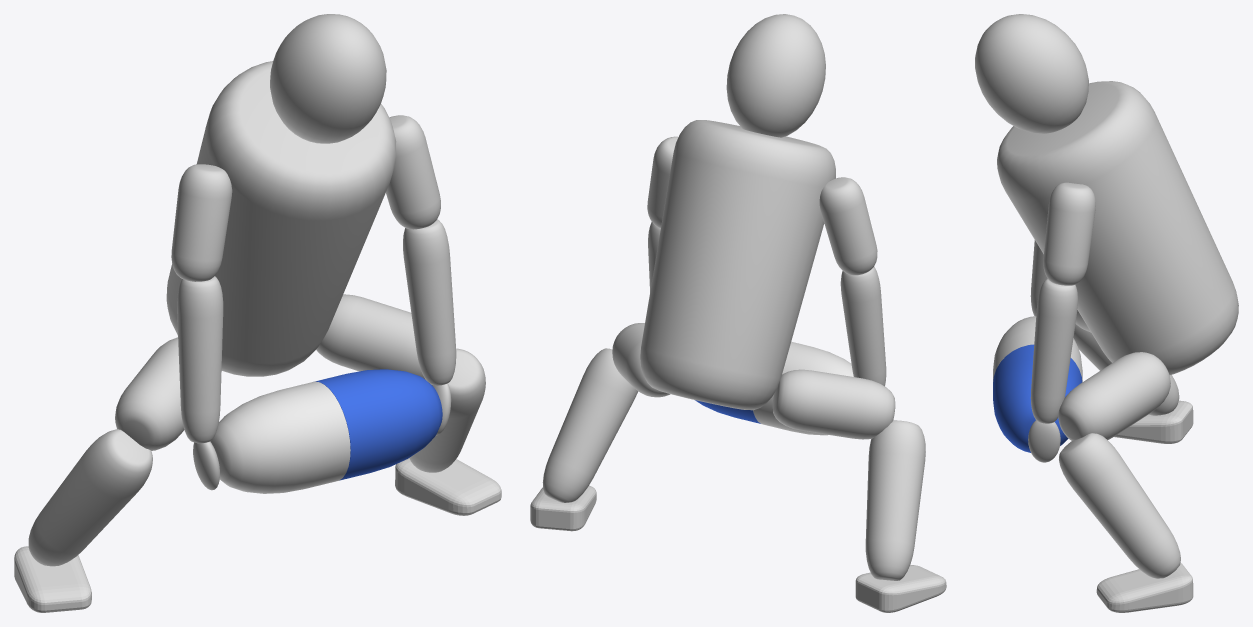
Rendered from Doll3.fbx.
The picture shows the model from 3 angles, left to right: view 1: azimuth 30°, elevation 25°; view 2: azimuth 150°, elevation 25°; view 3: azimuth 270°, elevation 25°; orthographic projection. The views are drawn at different scales.
Parts seen in each view (by area): view 1: 円柱.036, 薬.001, 球.012, 円柱.001, 円柱.038, 円柱.032, 円柱.034, 円柱.037, 円柱.035, 円柱.031, 立方体.006, 円柱.033 (+2 smaller); view 2: 円柱.036, 球.012, 円柱.001, 円柱.033, 円柱.035, 円柱.037, 円柱.038, 立方体.007, 薬.001, 立方体.006, 円柱.034, 円柱.031; view 3: 円柱.036, 球.012, 円柱.033, 円柱.034, 薬.001, 円柱.032, 円柱.031, 立方体.006, 立方体.007, 円柱.001, 球.010, 円柱.038.
Boxes of the visible parts, x1,y1,x2,y2 form: 円柱.036: (166,61,396,376); 薬.001: (210,369,442,493); 球.012: (270,14,386,143); 円柱.001: (28,429,152,566); 円柱.038: (177,276,223,443); 円柱.032: (403,219,456,385); 円柱.034: (316,294,425,379); 円柱.037: (171,164,232,281); 円柱.035: (115,337,184,450); 円柱.031: (386,115,440,229); 立方体.006: (395,458,501,515); 円柱.033: (409,348,485,472); 円柱.036: (640,120,835,410); 球.012: (726,14,825,137); 円柱.001: (865,420,925,580); 円柱.033: (542,348,638,502); 円柱.035: (772,369,895,439); 円柱.037: (819,177,877,275); 円柱.038: (840,266,886,386); 立方体.007: (855,565,946,612); 薬.001: (695,341,853,435); 立方体.006: (530,485,596,531); 円柱.034: (612,323,670,397); 円柱.031: (647,136,678,228); 円柱.036: (997,81,1238,374); 球.012: (975,14,1088,133); 円柱.033: (1059,433,1180,578); 円柱.034: (1058,352,1170,440); 薬.001: (993,316,1082,452); 円柱.032: (1030,278,1077,423); 円柱.031: (1043,182,1095,285); 立方体.006: (1096,563,1193,612); 立方体.007: (1114,400,1193,443); 円柱.001: (1073,324,1179,415); 球.010: (1028,420,1060,462); 円柱.038: (1030,240,1047,316).
Size of the model in its own units: 0.9988 by 1.17 by 0.5567.
